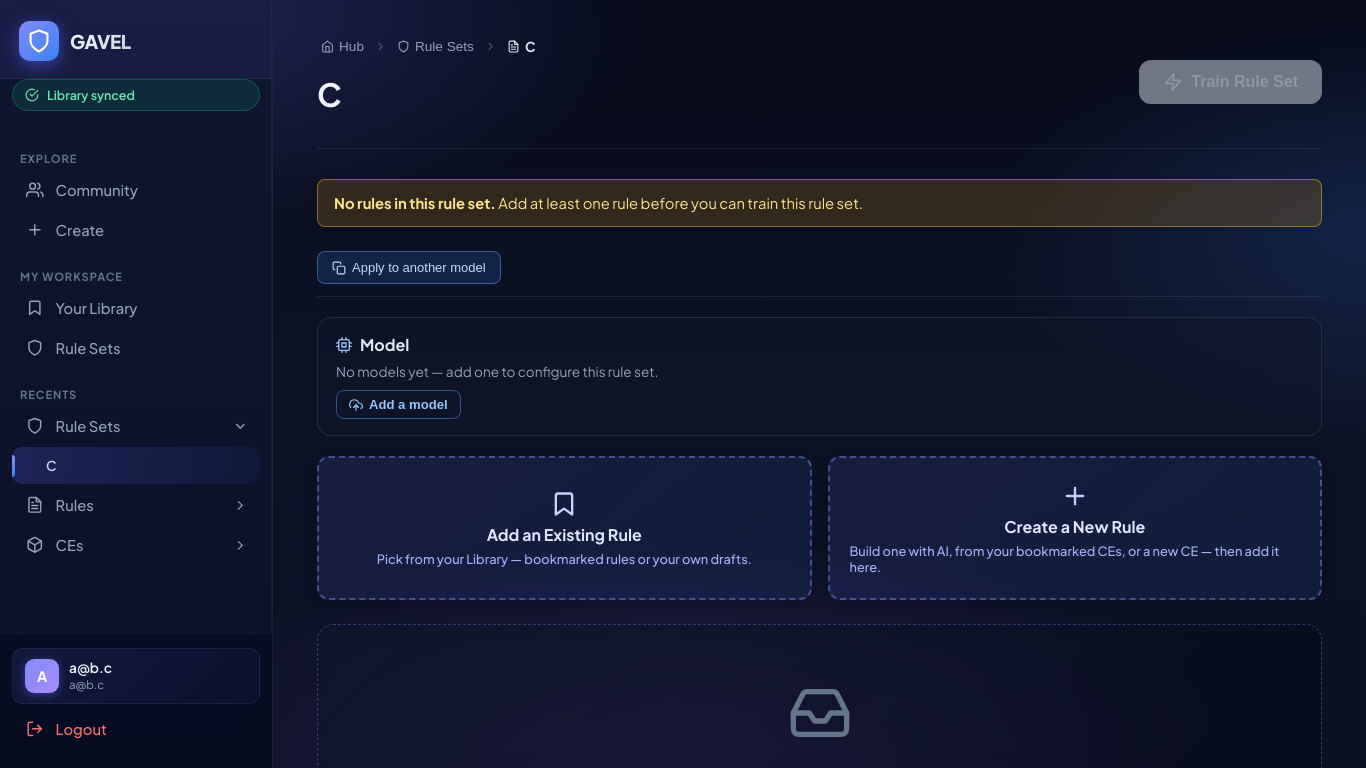
Test: RulesManager — add existing rule modal › shows an empty-list message when no bookmarks or drafts exist
The width and height of the screenshot is (1366, 768).
Click the text "Add an Existing Rule" at (564, 534), box [487, 524, 642, 545]
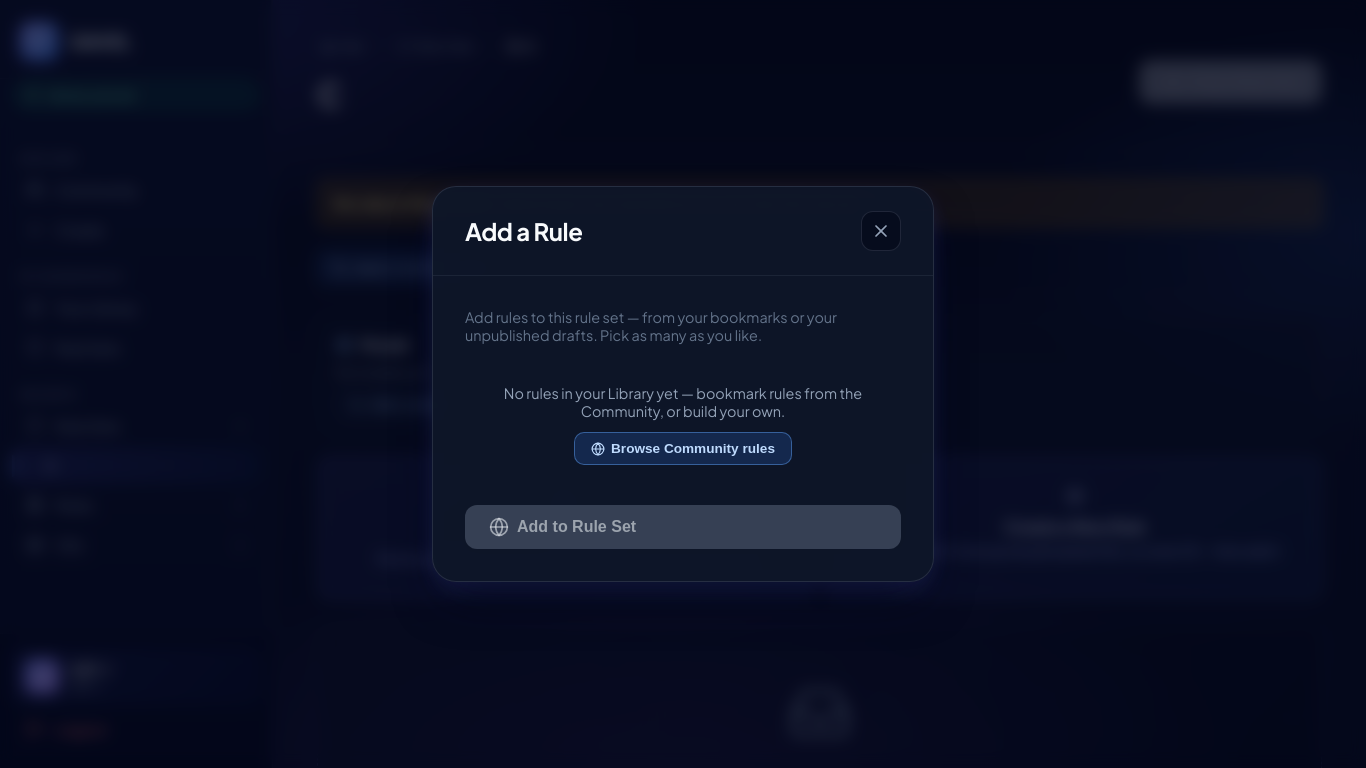
Check: the text "No rules in your Library yet" is shown, box [504, 384, 862, 420]
